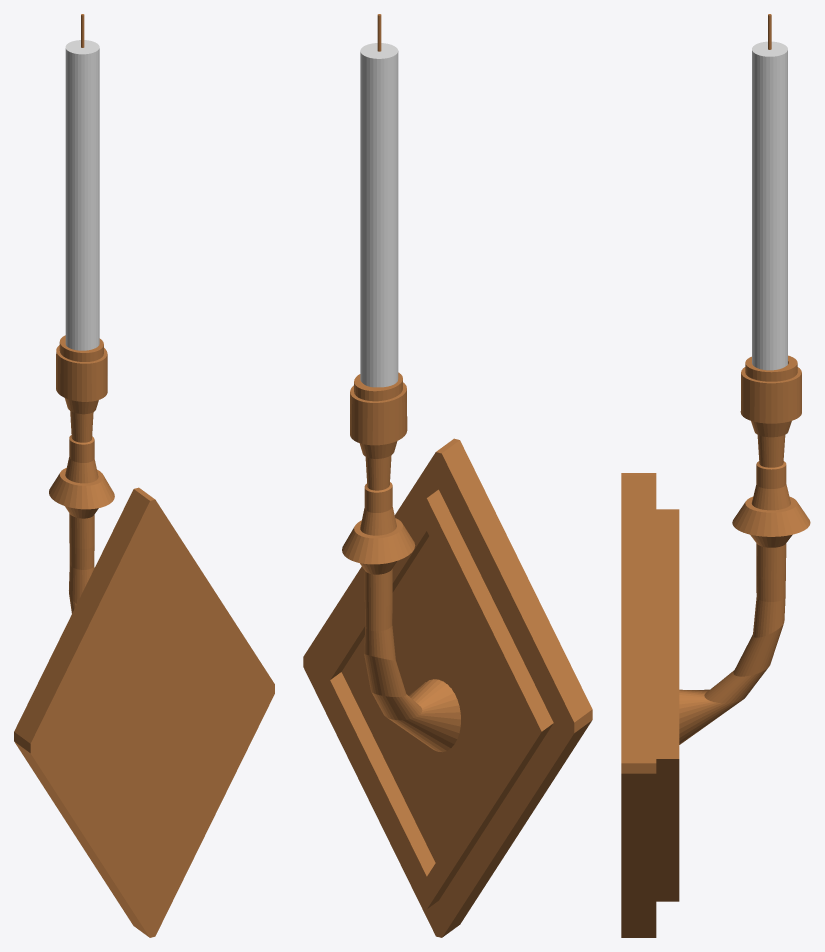
Rendered from M_BougieMurale.fbx.
The picture shows the model from 3 angles, left to right: view 1: azimuth 30°, elevation 25°; view 2: azimuth 150°, elevation 25°; view 3: azimuth 270°, elevation 25°; orthographic projection. The views are drawn at different scales.
Parts seen in each view (by area): view 1: Cylindre; view 2: Cylindre; view 3: Cylindre.
Part boxes in pixels (<box>): Cylindre: <box>14,14,274,937</box>; Cylindre: <box>303,14,592,937</box>; Cylindre: <box>621,14,810,937</box>.
Size of the model in its own units: 51.32 by 175 by 32.51.
